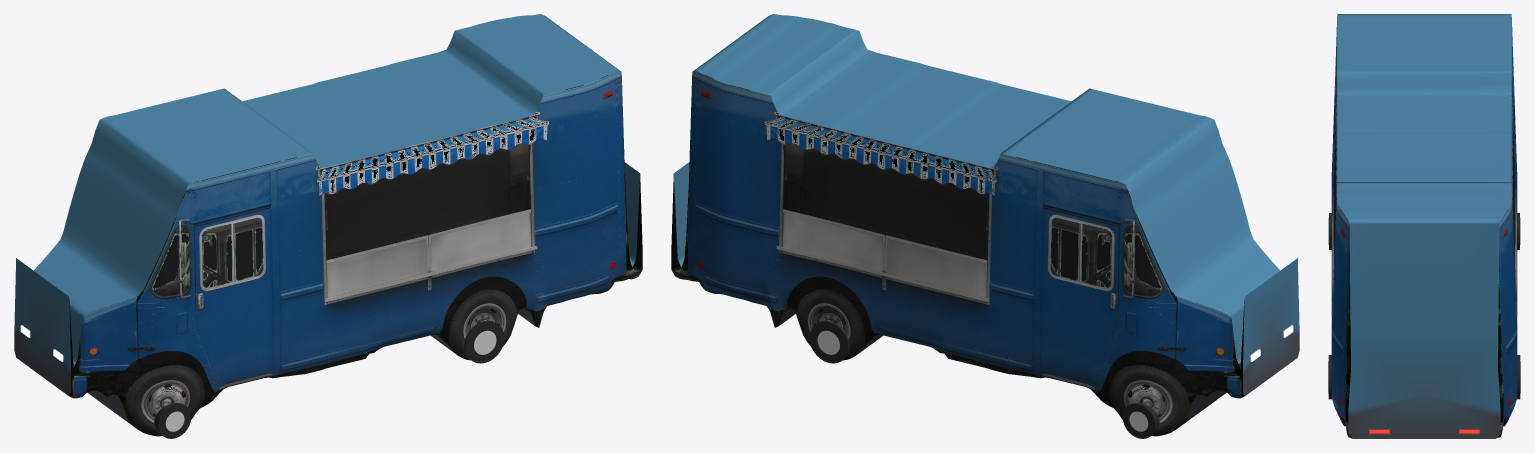
The model's file is foodtruck.glb.
3 renders of one model, left to right at view 1: azimuth 30°, elevation 25°; view 2: azimuth 150°, elevation 25°; view 3: azimuth 270°, elevation 25°, orthographic.
Visible parts, largest first — view 1: foodtruck; view 2: foodtruck; view 3: foodtruck.
Part boxes in pixels (box(x1,y1,x2,y2)): foodtruck: box(14, 14, 642, 438); foodtruck: box(671, 14, 1299, 438); foodtruck: box(1328, 14, 1520, 438).
Bounding box in the file's own units: 5.53 × 2.34 × 1.66.
Materials: 8 (2 with a texture image).
